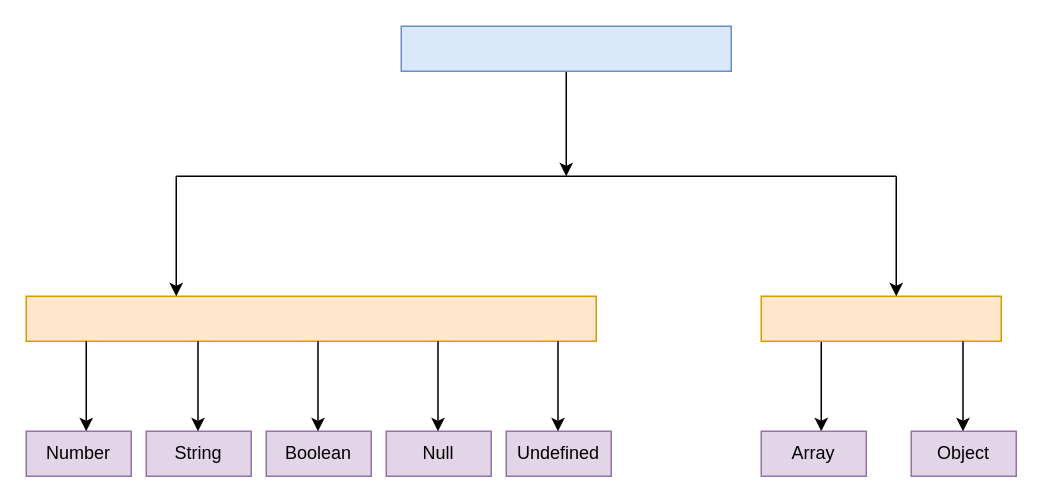
Image size: 1043x503. Some labels were removed from this diagram. Here are the shapes that lost their labels. From the top down, the box of each, then its label:
(400, 25, 731, 71): Data Types
(25, 295, 596, 341): Primitive Data Types.
(760, 295, 1001, 341): Non-Primitive Data Types.
